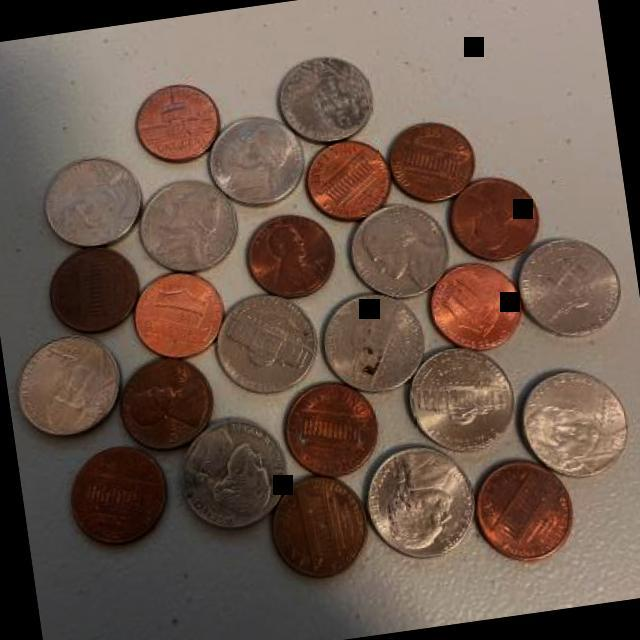Nickel: (170, 407, 292, 540), (356, 436, 479, 563), (514, 360, 634, 482), (4, 325, 128, 443), (402, 339, 516, 462), (314, 286, 430, 403), (510, 228, 624, 346), (208, 289, 322, 402), (131, 174, 243, 281), (340, 199, 450, 306), (198, 108, 308, 212), (38, 150, 148, 253), (269, 46, 378, 147)
Penny: (461, 452, 576, 569), (61, 441, 170, 551), (112, 351, 222, 458), (265, 469, 369, 581), (274, 374, 380, 478), (38, 240, 144, 340), (440, 168, 542, 271), (423, 255, 523, 356), (236, 208, 338, 306), (125, 266, 228, 362), (378, 114, 480, 210), (297, 134, 394, 229), (126, 75, 224, 168)
